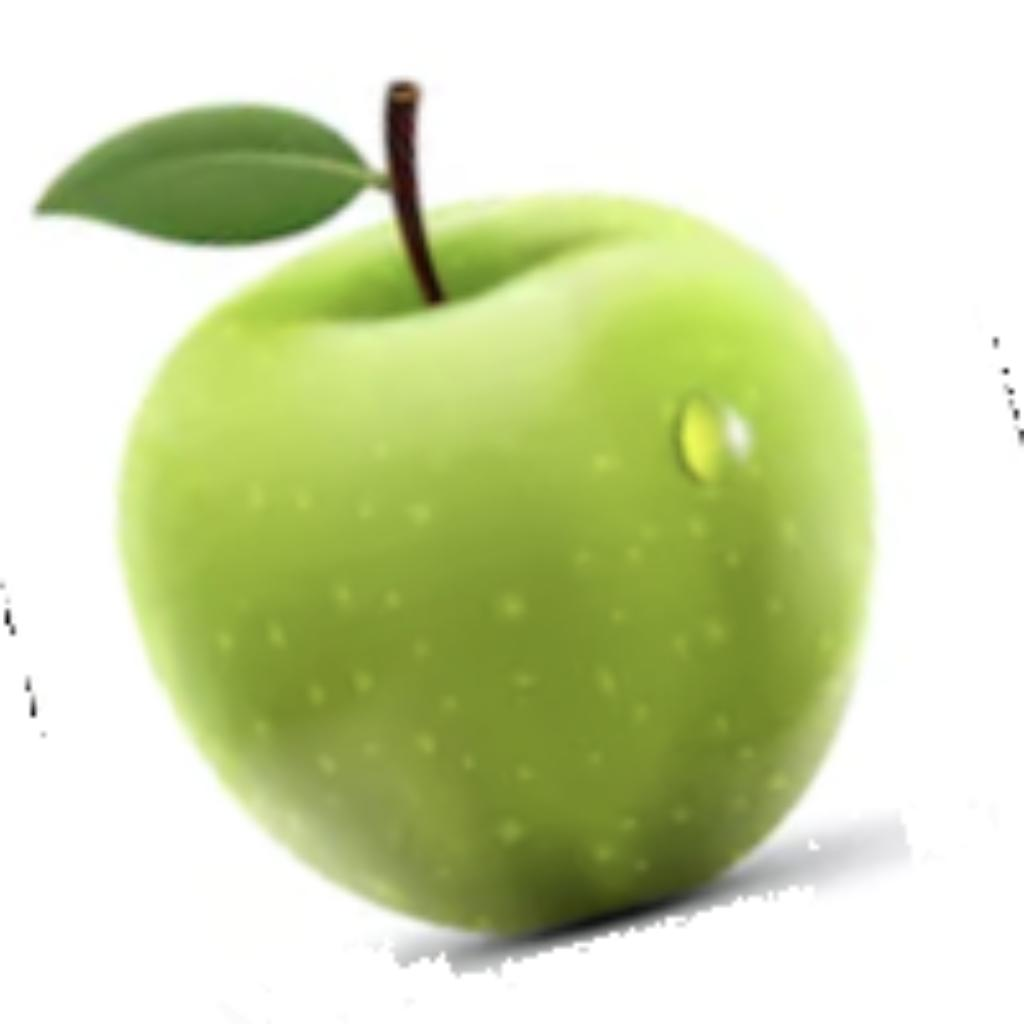apple: (20, 72, 916, 978)
